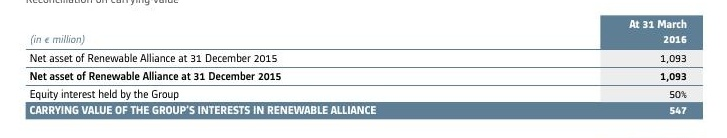table: (0, 0, 727, 138)
